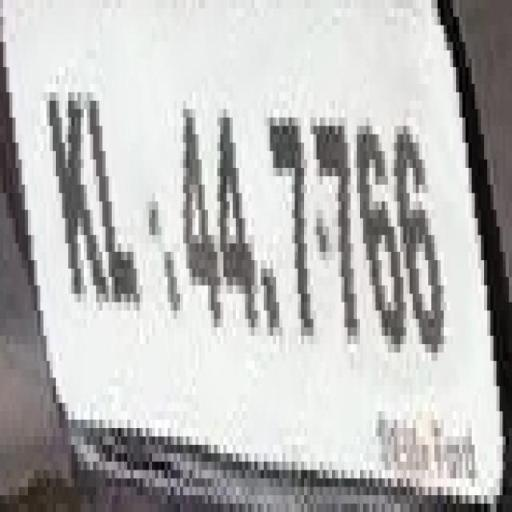number plate: (21, 0, 512, 445)
